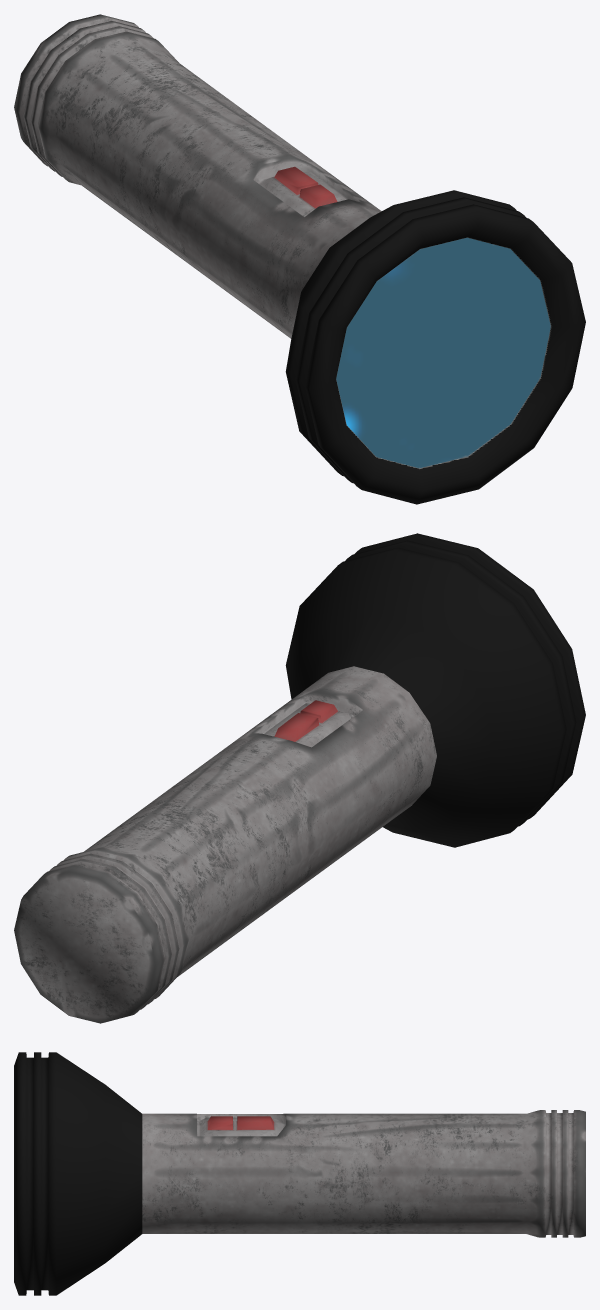
The model's file is Flashlight.fbx.
3 views of the same model, one above another, from view 1: azimuth 30°, elevation 25°; view 2: azimuth 150°, elevation 25°; view 3: azimuth 270°, elevation 25° (orthographic). The views are drawn at different scales.
Visible parts, largest first — view 1: Flashlight_low; view 2: Flashlight_low; view 3: Flashlight_low.
Boxes of the visible parts, <box> form: Flashlight_low: <box>14,14,585,504</box>; Flashlight_low: <box>14,533,585,1023</box>; Flashlight_low: <box>14,1052,585,1295</box>.
Bounding box in the file's own units: 39.73 × 38.73 × 91.29.
1 material, 1 textured.
